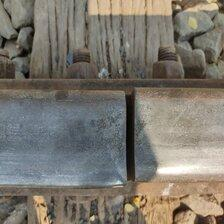railway-gap: (73, 83, 183, 190)
